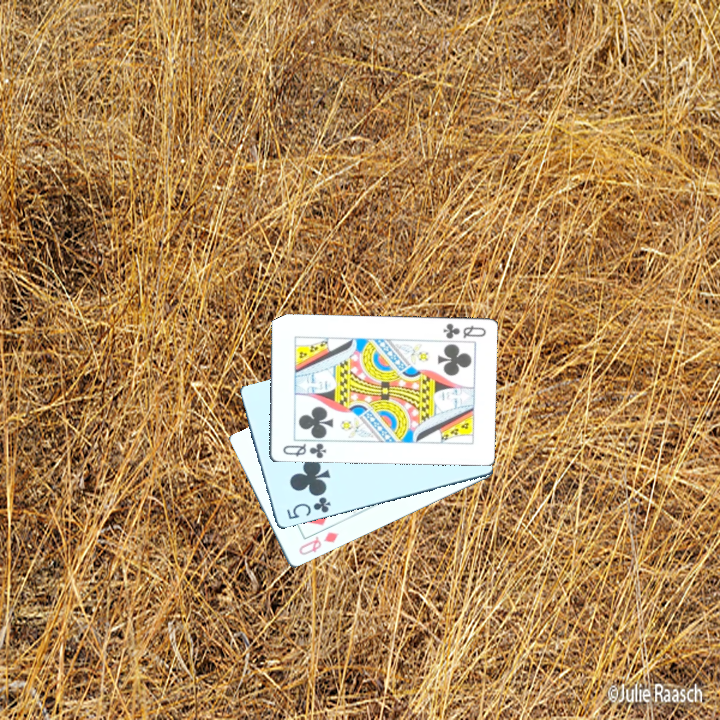5c: (282, 493, 332, 522)
Qc: (279, 431, 331, 459), (439, 319, 488, 341)
Qd: (294, 520, 341, 558)
